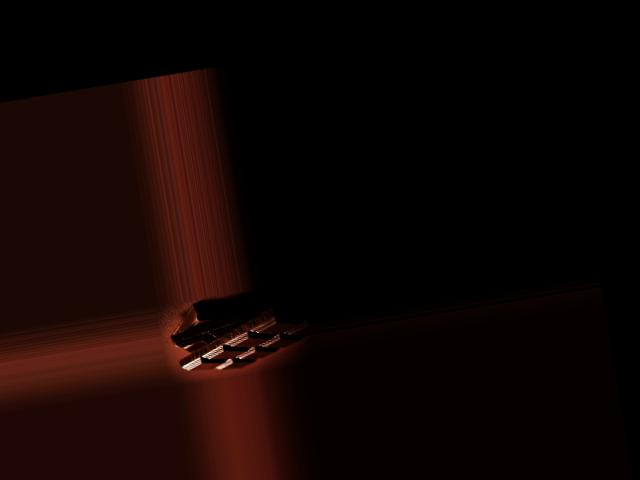chocolate: (168, 295, 310, 377)
